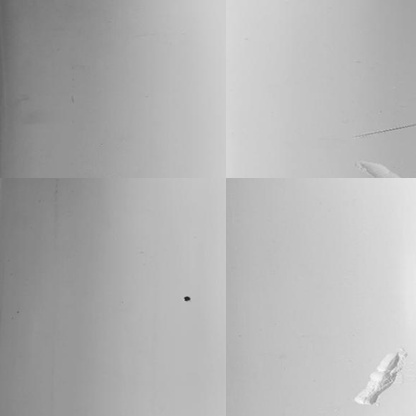sunshang: (355, 341, 409, 408), (358, 158, 397, 179)
